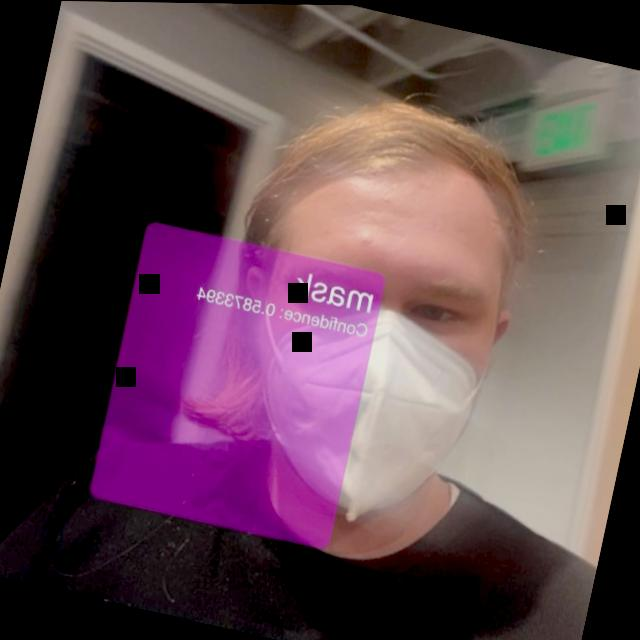Mask: (143, 69, 572, 604)
